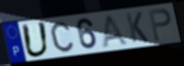6: (76, 17, 99, 51)
A: (101, 14, 131, 48)
C: (49, 21, 75, 54)
K: (124, 11, 150, 44)
P: (147, 8, 173, 43)
U: (20, 21, 51, 59)
